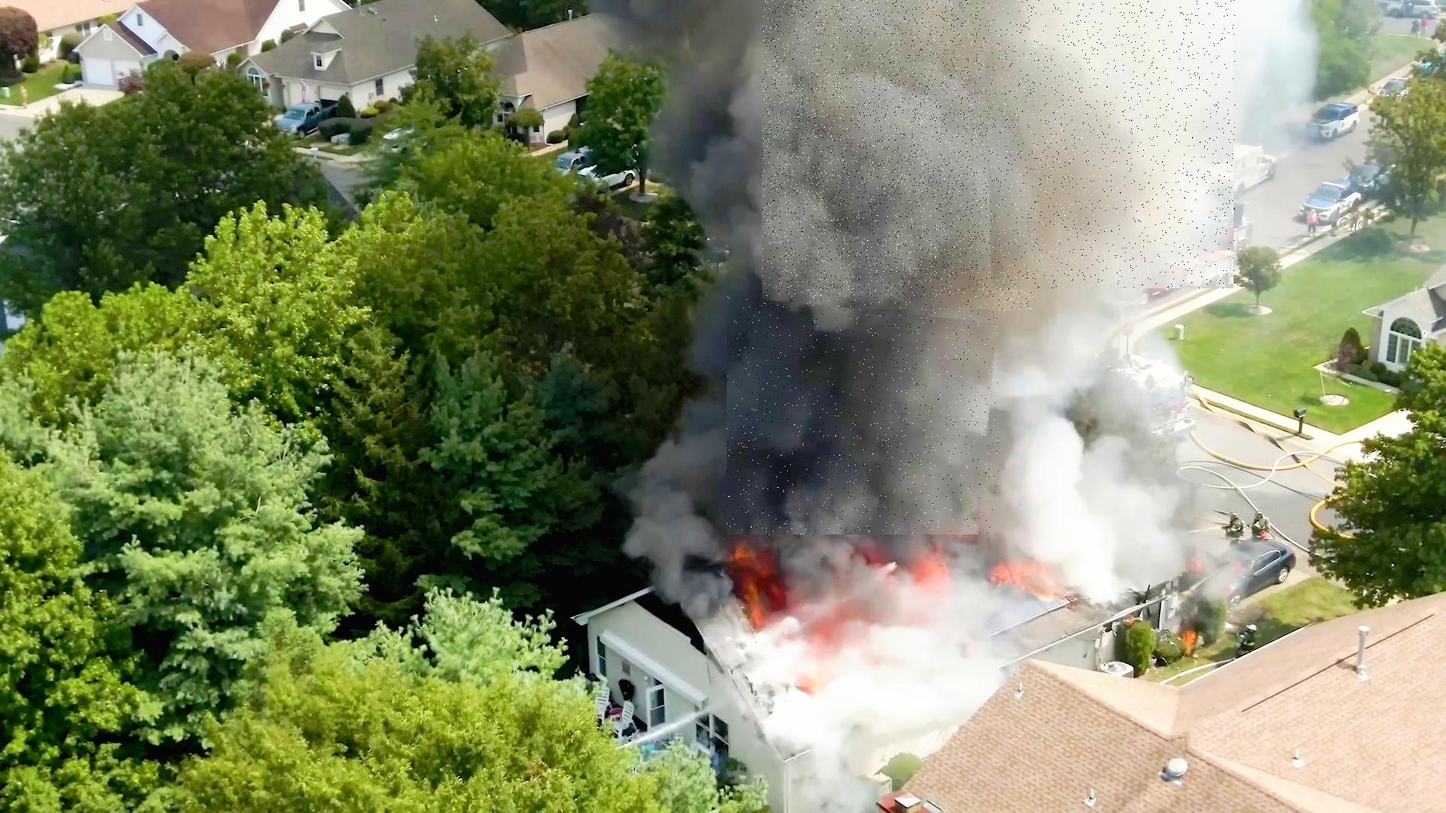smoke: (763, 0, 1034, 311), (985, 0, 1236, 288), (727, 297, 999, 537)
